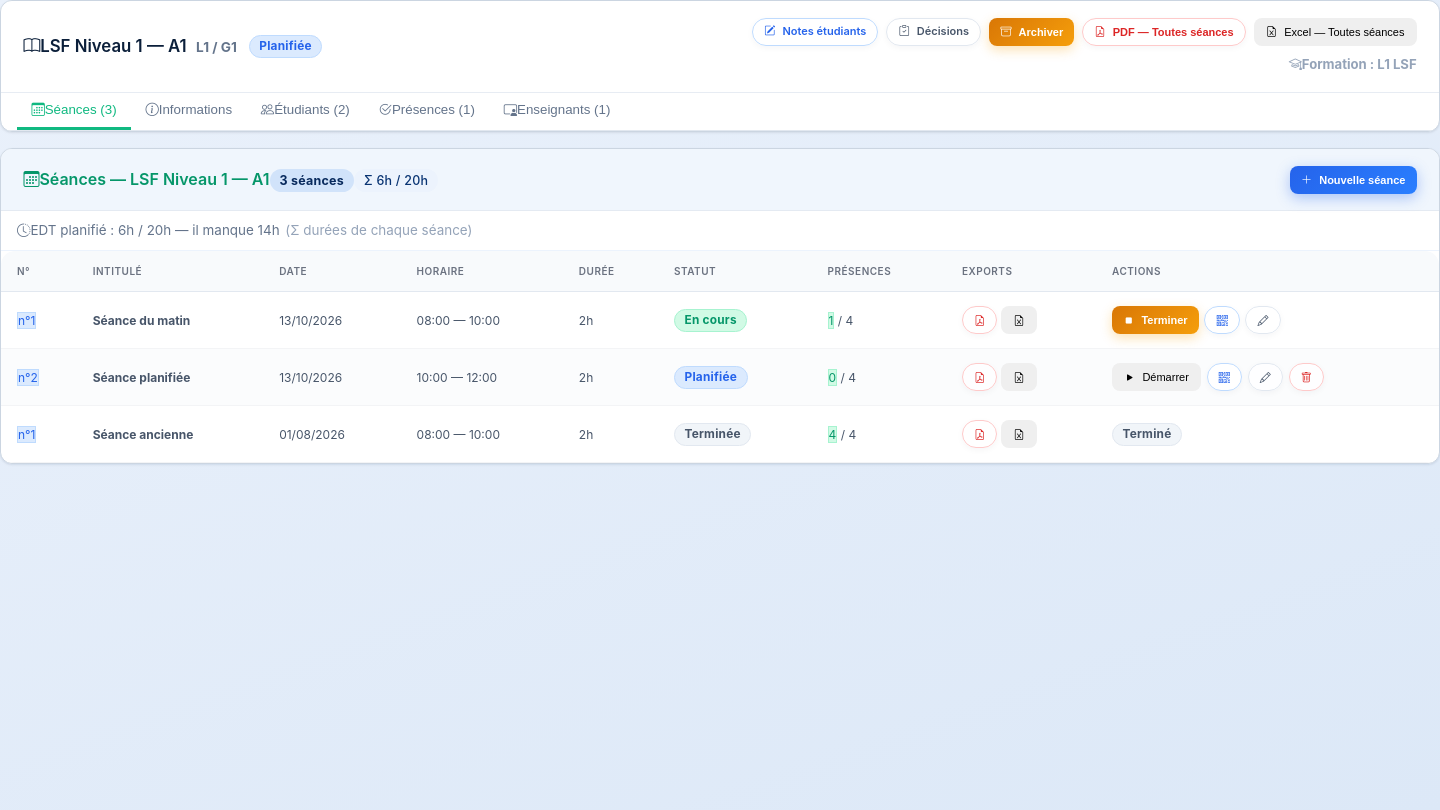
Test: ModuleDetail — onglet Séances (démarrage/fin/suppression) › n'émet rien si la confirmation de démarrage est annulée
Expected: the text "Séance planifiée" is shown, [93,370,190,385]
Click the button "Démarrer".
click(1156, 378)  # box [1112,364,1201,392]
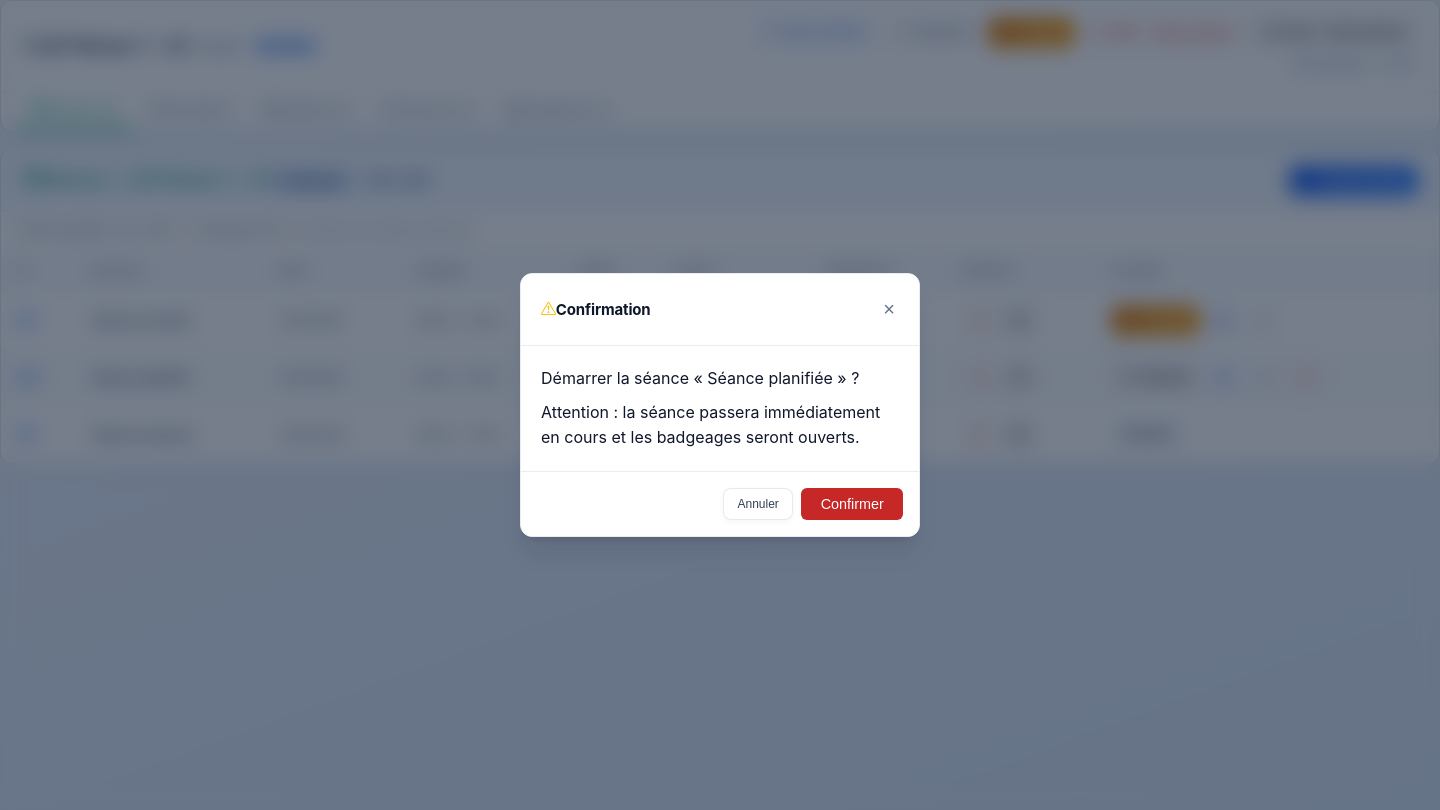
Result: the text "Démarrer la séance « Séance planifiée » ?" is shown at [541,366,899,392]
Click the button "Annuler".
click(758, 504)  # box [723,488,794,520]
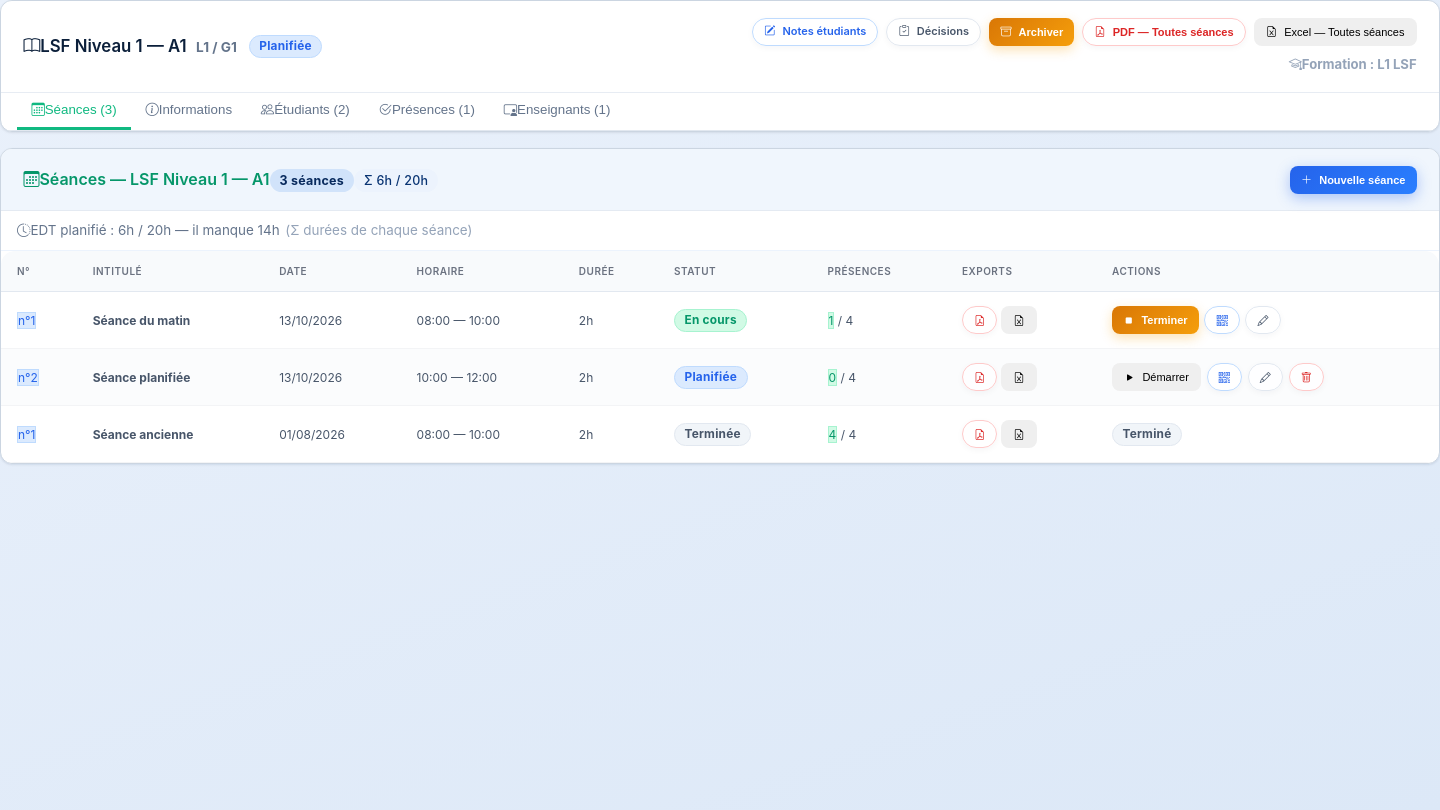
Result: the element with class "modal-overlay" is gone
